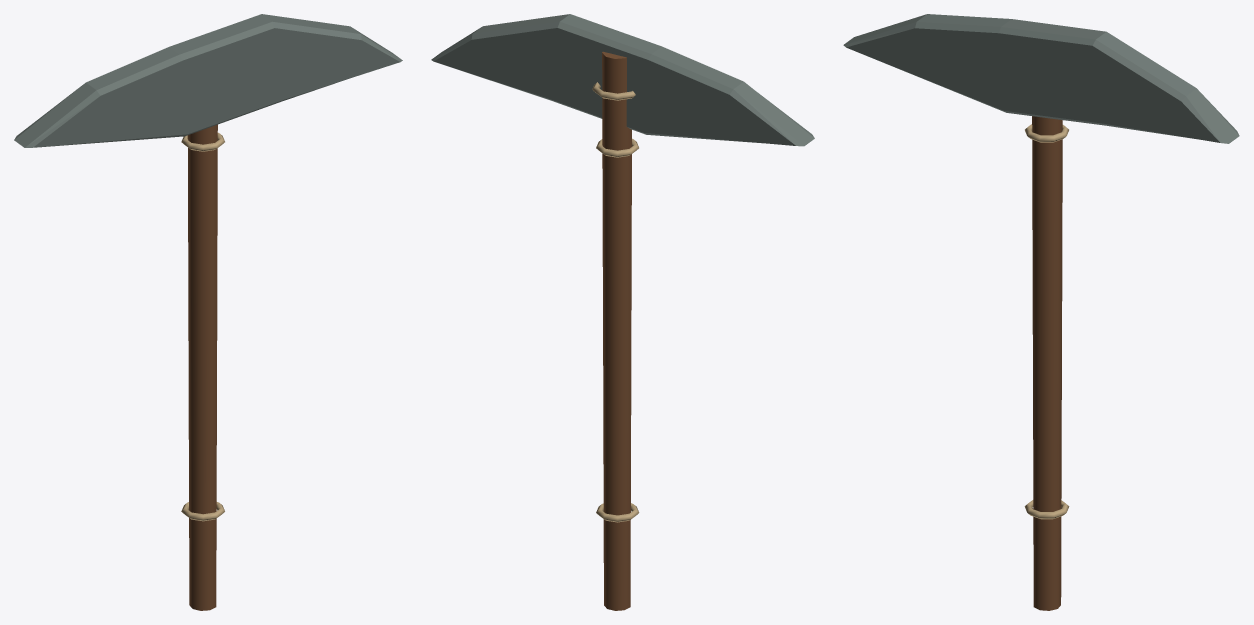
File: stone_miner.glb
The picture shows the model from 3 angles, left to right: view 1: azimuth 30°, elevation 25°; view 2: azimuth 150°, elevation 25°; view 3: azimuth 330°, elevation 25°; orthographic projection. The views are drawn at different scales.
Parts seen in each view (by area): view 1: part_2, part_0, part_1; view 2: part_2, part_0, part_1; view 3: part_2, part_0, part_1.
Boxes of the visible parts, left/top/right/bottom form: part_2: left=14, top=14, right=402, bottom=147; part_0: left=187, top=124, right=217, bottom=610; part_1: left=181, top=132, right=224, bottom=521; part_2: left=431, top=14, right=814, bottom=146; part_0: left=602, top=51, right=631, bottom=610; part_1: left=592, top=82, right=639, bottom=522; part_2: left=843, top=14, right=1239, bottom=143; part_0: left=1032, top=116, right=1062, bottom=610; part_1: left=1024, top=124, right=1069, bottom=519.
Bounding box in the file's own units: 0.3324 × 0.4843 × 0.0401.
